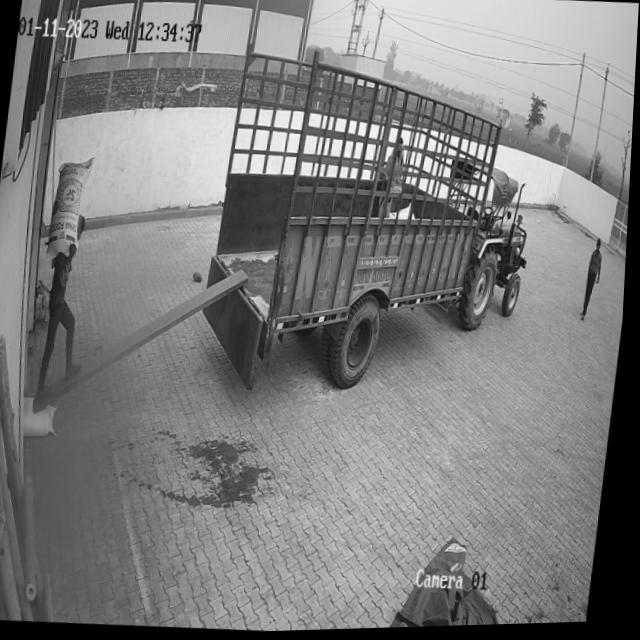sack: (48, 156, 95, 262), (23, 395, 63, 438)
